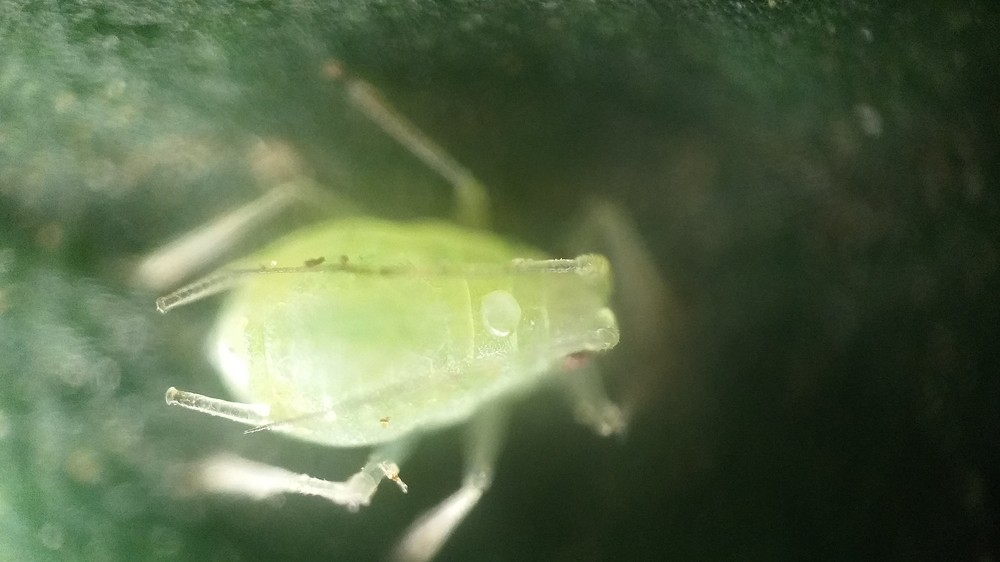Pulgon: (113, 75, 688, 558)
